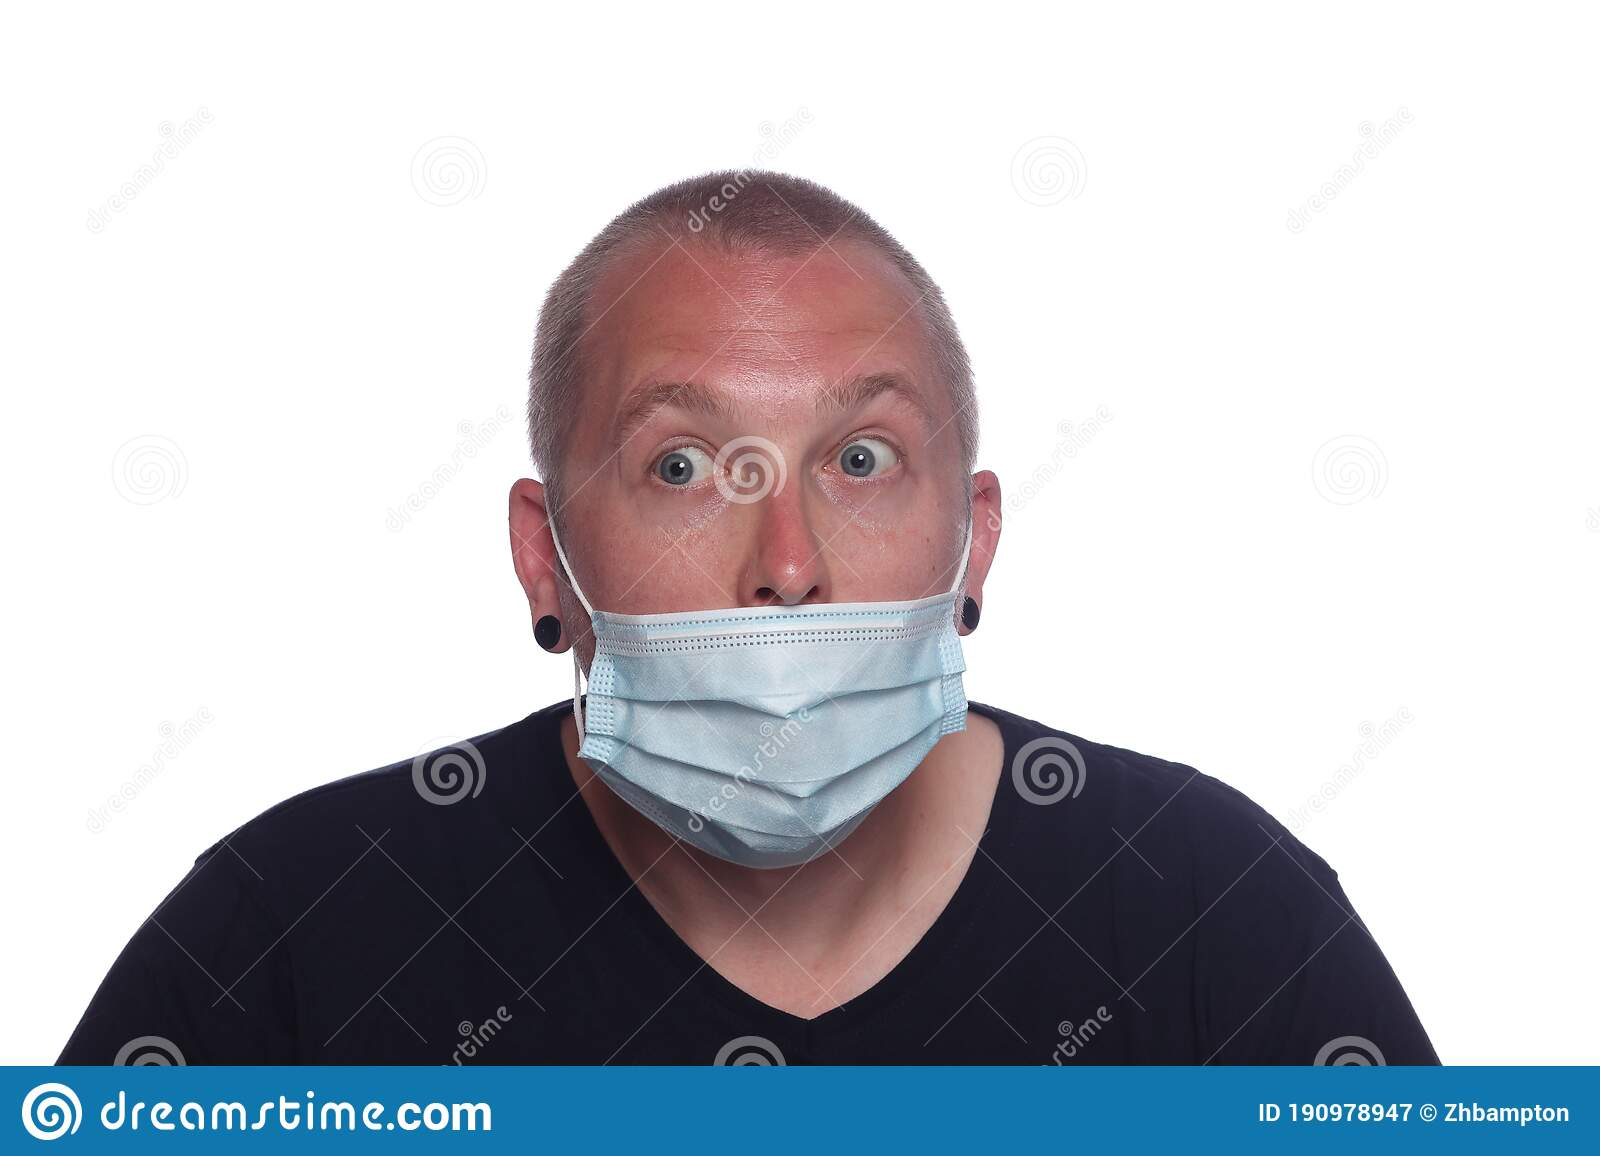nose_out: (508, 170, 1002, 873)
